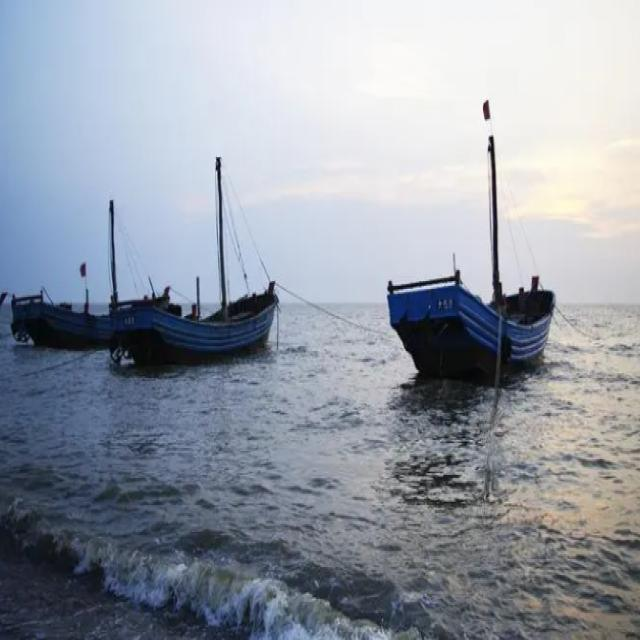fishing boat: (386, 130, 556, 370), (113, 162, 281, 358), (15, 200, 180, 345)
